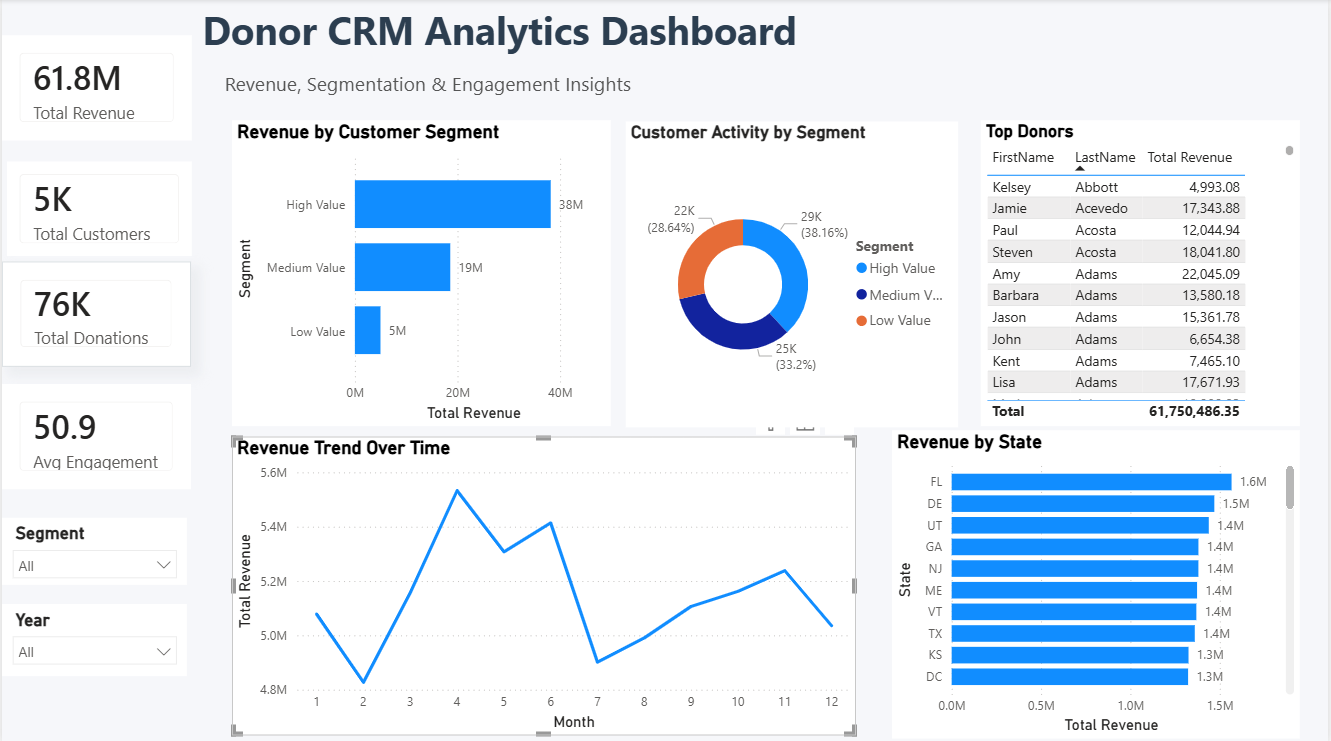

The dashboard page shown, as its layout file describes it:
{"tool":"powerbi","page":{"name":"Page 1","canvas":[1280,720],"ordinal":0},"visuals":[{"type":"cardVisual","fields":{"Data":["cleaned_crm_data.Total Revenue"]},"box":[0,35,183.4,101.3],"z":0},{"type":"cardVisual","fields":{"Data":["cleaned_crm_data.Total Donations"]},"box":[0,253.4,182.2,101.3],"z":1000},{"type":"cardVisual","fields":{"Data":["cleaned_crm_data.Avg Engagement"]},"box":[0,371.6,182.2,101.3],"z":2000},{"type":"cardVisual","fields":{"Data":["cleaned_crm_data.Total Customers"]},"box":[0,152,188.2,101.3],"z":3000},{"type":"lineChart","title":"Revenue Trend Over Time","fields":{"Category":["cleaned_crm_data.Month"],"Y":["cleaned_crm_data.Total Revenue"]},"box":[222,422.3,434.3,288.3],"z":4000},{"type":"clusteredBarChart","title":"Revenue by Customer Segment","fields":{"Category":["cleaned_crm_data.Segment"],"Y":["cleaned_crm_data.Total Revenue"]},"box":[222,117,365.6,295.6],"z":5000},{"type":"tableEx","title":"Top Donors","fields":{"Values":["cleaned_crm_data.FirstName","cleaned_crm_data.LastName","cleaned_crm_data.Total Revenue"]},"box":[944.6,117,307.6,295.6],"z":6000},{"type":"clusteredBarChart","title":"Revenue by State","fields":{"Category":["cleaned_crm_data.State"],"Y":["cleaned_crm_data.Total Revenue"]},"box":[798.7,422.3,393.3,298],"z":7000},{"type":"textbox","title":"Donor CRM Analytics Dashboard","box":[188,0,595.5,64.5],"z":8000},{"type":"textbox","box":[209.9,64.5,524.2,38.4],"z":8001},{"type":"slicer","fields":{"Values":["cleaned_crm_data.Segment"]},"box":[0,500.7,178.6,65.1],"z":8002},{"type":"slicer","fields":{"Values":["cleaned_crm_data.Year"]},"box":[0,583.9,178.6,70],"z":8003},{"type":"donutChart","title":"Customer Activity by Segment","fields":{"Category":["cleaned_crm_data.Segment"],"Y":["Sum(cleaned_crm_data.TotalGifts)"]},"box":[602,118.2,320.9,295.6],"z":8004}]}

Visuals, with their boxes in screenshot pixels (x1, y1, x2, y2), scaled from the page's 1280x720 canvas onto the 1331x741 screenshot:
cardVisual - cleaned_crm_data.Total Revenue: (left=0, top=36, right=191, bottom=140)
cardVisual - cleaned_crm_data.Total Donations: (left=0, top=261, right=189, bottom=365)
cardVisual - cleaned_crm_data.Avg Engagement: (left=0, top=382, right=189, bottom=487)
cardVisual - cleaned_crm_data.Total Customers: (left=0, top=156, right=196, bottom=261)
"Revenue Trend Over Time" lineChart: (left=231, top=435, right=682, bottom=731)
"Revenue by Customer Segment" clusteredBarChart: (left=231, top=120, right=611, bottom=425)
"Top Donors" tableEx: (left=982, top=120, right=1302, bottom=425)
"Revenue by State" clusteredBarChart: (left=831, top=435, right=1239, bottom=740)
"Donor CRM Analytics Dashboard" textbox: (left=195, top=0, right=815, bottom=66)
textbox: (left=218, top=66, right=763, bottom=106)
slicer - cleaned_crm_data.Segment: (left=0, top=515, right=186, bottom=582)
slicer - cleaned_crm_data.Year: (left=0, top=601, right=186, bottom=673)
"Customer Activity by Segment" donutChart: (left=626, top=122, right=960, bottom=426)
